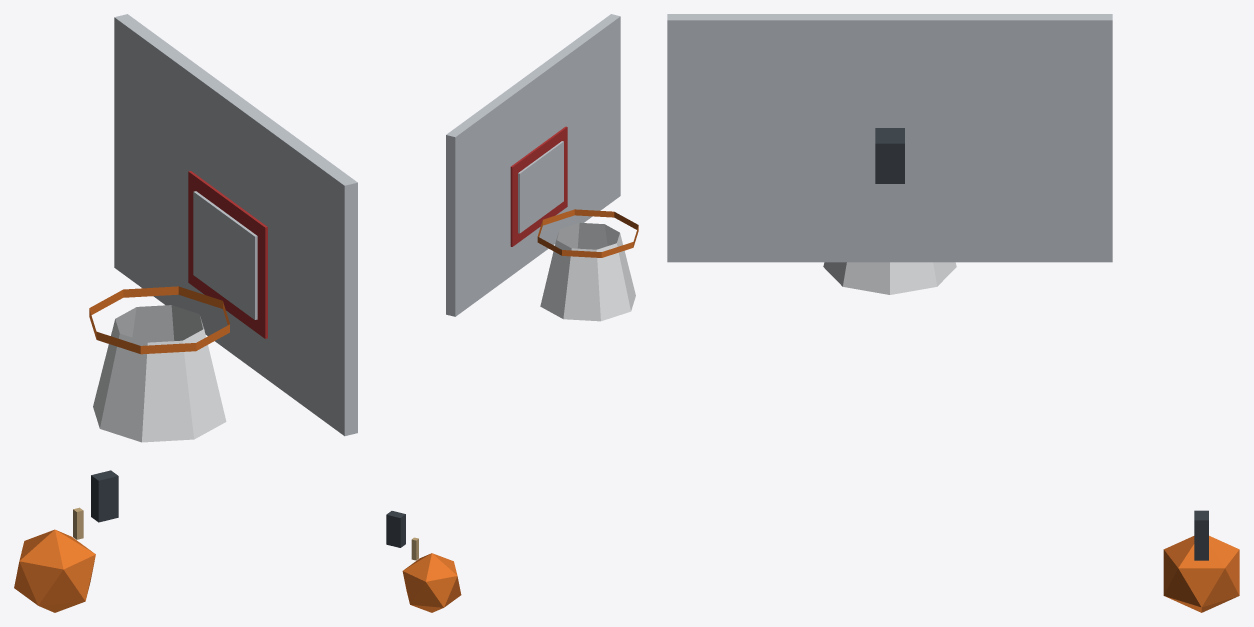
File: egg_carrier_hoop.fbx
The picture shows the model from 3 angles, left to right: view 1: azimuth 30°, elevation 25°; view 2: azimuth 150°, elevation 25°; view 3: azimuth 270°, elevation 25°; orthographic projection. The views are drawn at different scales.
Parts seen in each view (by area): view 1: egg_carrier_hoop; view 2: egg_carrier_hoop; view 3: egg_carrier_hoop.
Part boxes in pixels (x1,y1,x2,y2): egg_carrier_hoop: (14, 14, 357, 612); egg_carrier_hoop: (386, 14, 638, 612); egg_carrier_hoop: (667, 14, 1239, 612).
Bounding box in the file's own units: 270 × 900 × 771.
